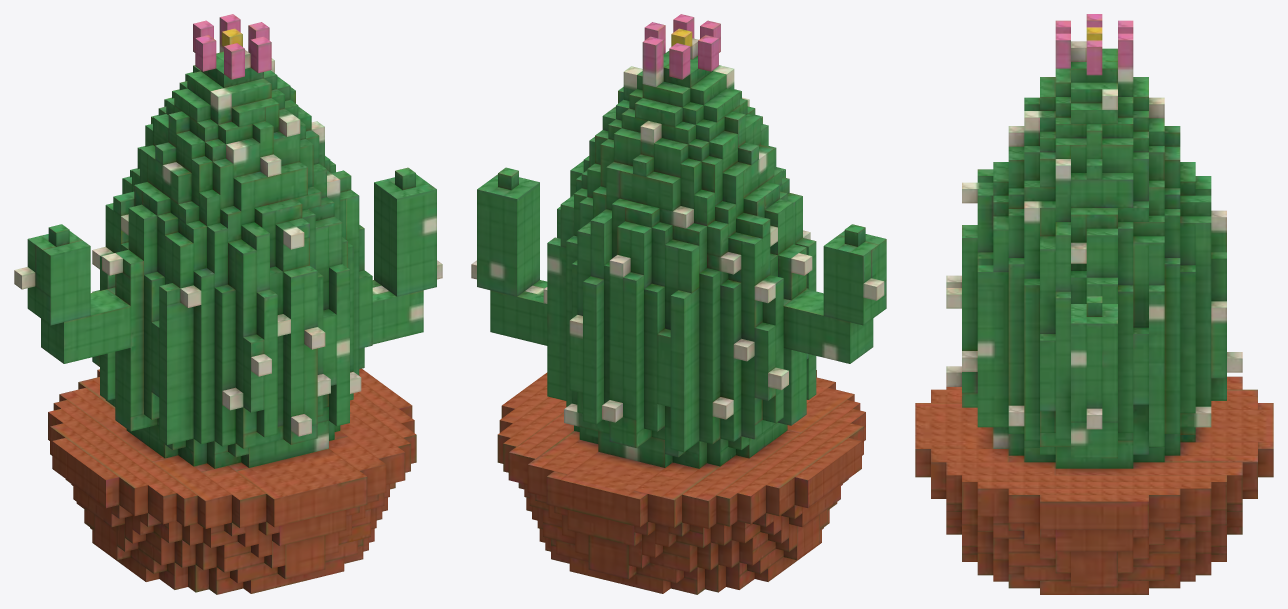
File: cactus.glb
3 views of the same model, side by side, from view 1: azimuth 30°, elevation 25°; view 2: azimuth 150°, elevation 25°; view 3: azimuth 270°, elevation 25° (orthographic).
Parts seen in each view (by area): view 1: Body.001; view 2: Body.001; view 3: Body.001.
Boxes of the visible parts, box(x1,y1,x2,y2) form: Body.001: box(14, 14, 442, 594); Body.001: box(471, 14, 886, 594); Body.001: box(915, 14, 1273, 594).
Size of the model in its own units: 4.65 by 5.4 by 3.45.
1 material, 1 textured.
